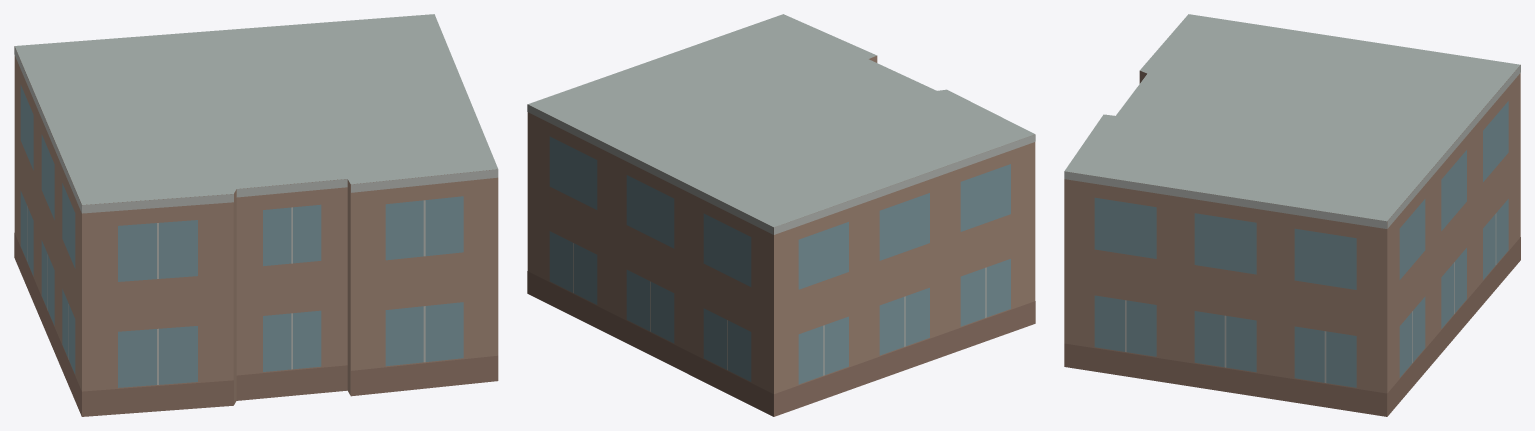
Rendered from survey-upis-32668381.glb.
3 views of the same model, side by side, from view 1: azimuth 30°, elevation 25°; view 2: azimuth 150°, elevation 25°; view 3: azimuth 270°, elevation 25° (orthographic). The views are drawn at different scales.
Visible parts, largest first — view 1: survey-upis-32668381.tmp; view 2: survey-upis-32668381.tmp; view 3: survey-upis-32668381.tmp.
Boxes of the visible parts, box(x1,y1,x2,y2) form: survey-upis-32668381.tmp: box(14, 14, 498, 416); survey-upis-32668381.tmp: box(527, 14, 1035, 416); survey-upis-32668381.tmp: box(1064, 14, 1520, 416).
Bounding box in the file's own units: 13.88 × 6.1 × 12.91.
